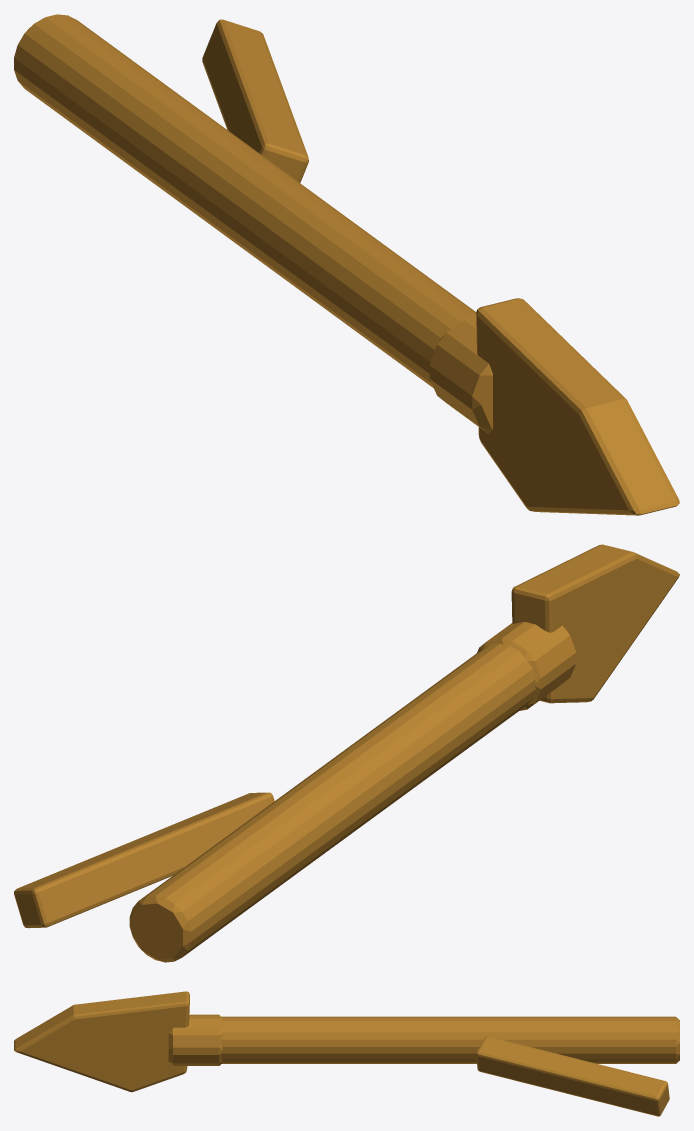
The model's file is AuxiliaBrokenStoneBolt.fbx.
3 renders of one model, top to bottom at view 1: azimuth 30°, elevation 25°; view 2: azimuth 150°, elevation 25°; view 3: azimuth 270°, elevation 25°, orthographic. The views are drawn at different scales.
Visible parts, largest first — view 1: AuxiliaBrokenStoneBolt_GameExport; view 2: AuxiliaBrokenStoneBolt_GameExport; view 3: AuxiliaBrokenStoneBolt_GameExport.
Part boxes in pixels (bbox=[...]): AuxiliaBrokenStoneBolt_GameExport: bbox=[14, 14, 679, 515]; AuxiliaBrokenStoneBolt_GameExport: bbox=[14, 544, 679, 962]; AuxiliaBrokenStoneBolt_GameExport: bbox=[14, 991, 679, 1116].
Size of the model in its own units: 4.82 by 21.75 by 3.26.
